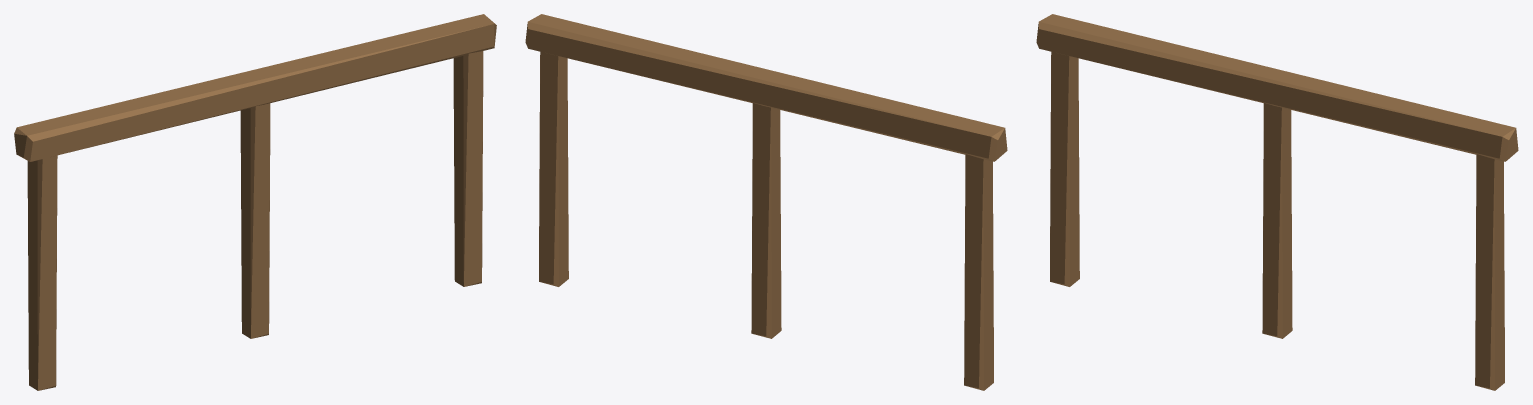
File: harbor-railing.lod1.glb
3 renders of one model, left to right at view 1: azimuth 30°, elevation 25°; view 2: azimuth 150°, elevation 25°; view 3: azimuth 330°, elevation 25°, orthographic.
Parts seen in each view (by area): view 1: harbor-railing__body; view 2: harbor-railing__body; view 3: harbor-railing__body.
Boxes of the visible parts, x1,y1,x2,y2 form: harbor-railing__body: [14, 14, 496, 390]; harbor-railing__body: [525, 14, 1007, 390]; harbor-railing__body: [1036, 14, 1518, 390].
Bounding box in the file's own units: 2 × 1.05 × 0.12.
